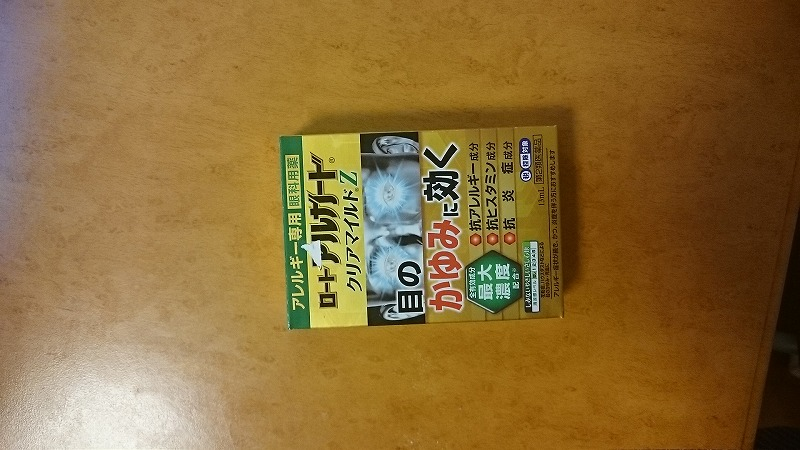C: (269, 117, 580, 335)
